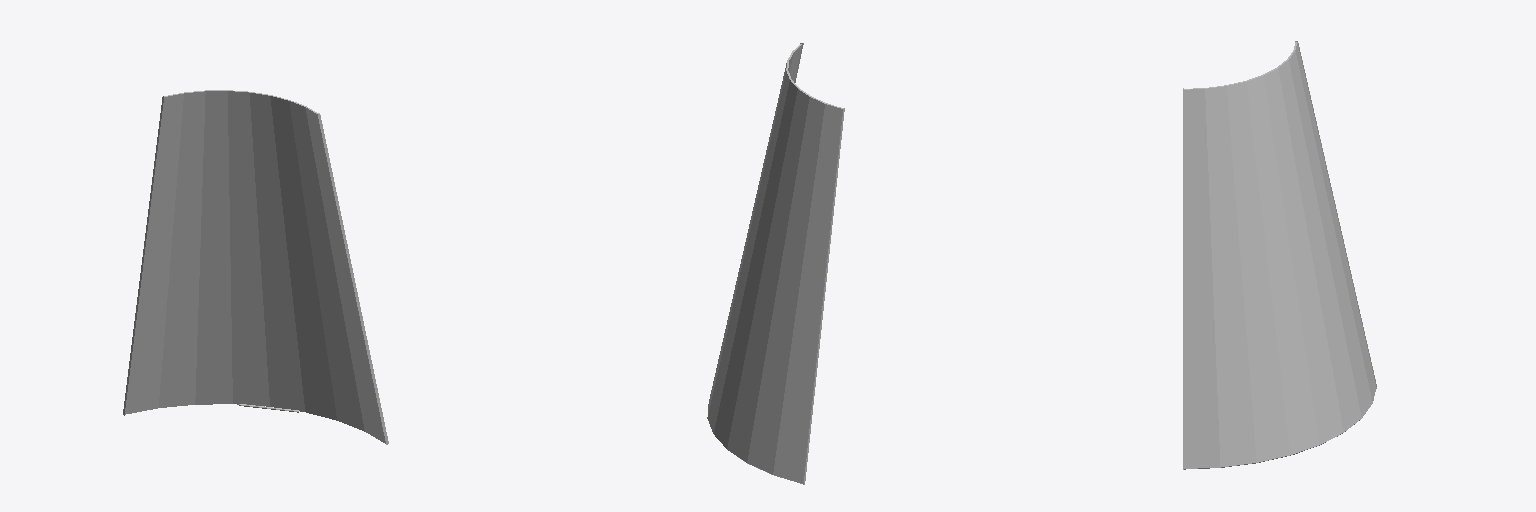
Rendered from Saturn V_4_1.obj.
The picture shows the model from 3 angles: view 1: azimuth 30°, elevation 25°; view 2: azimuth 150°, elevation 25°; view 3: azimuth 270°, elevation 25°; orthographic projection.
Visible parts, largest first — view 1: LEM_Fairing.003_Cylinder.018; view 2: LEM_Fairing.003_Cylinder.018; view 3: LEM_Fairing.003_Cylinder.018.
Boxes of the visible parts, x1,y1,x2,y2 form: LEM_Fairing.003_Cylinder.018: [123, 90, 388, 444]; LEM_Fairing.003_Cylinder.018: [707, 43, 844, 484]; LEM_Fairing.003_Cylinder.018: [1183, 41, 1376, 469].
Size of the model in its own units: 3.31 by 6.54 by 3.31.